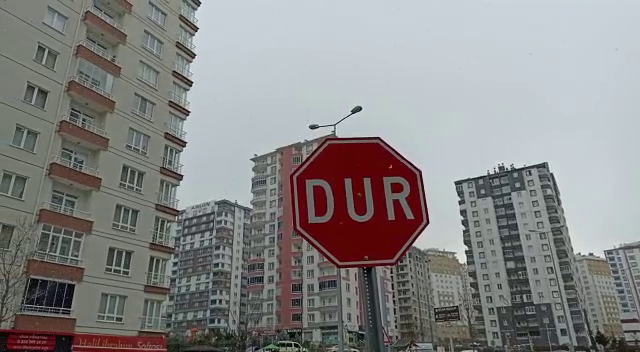stop: (286, 134, 433, 272)
